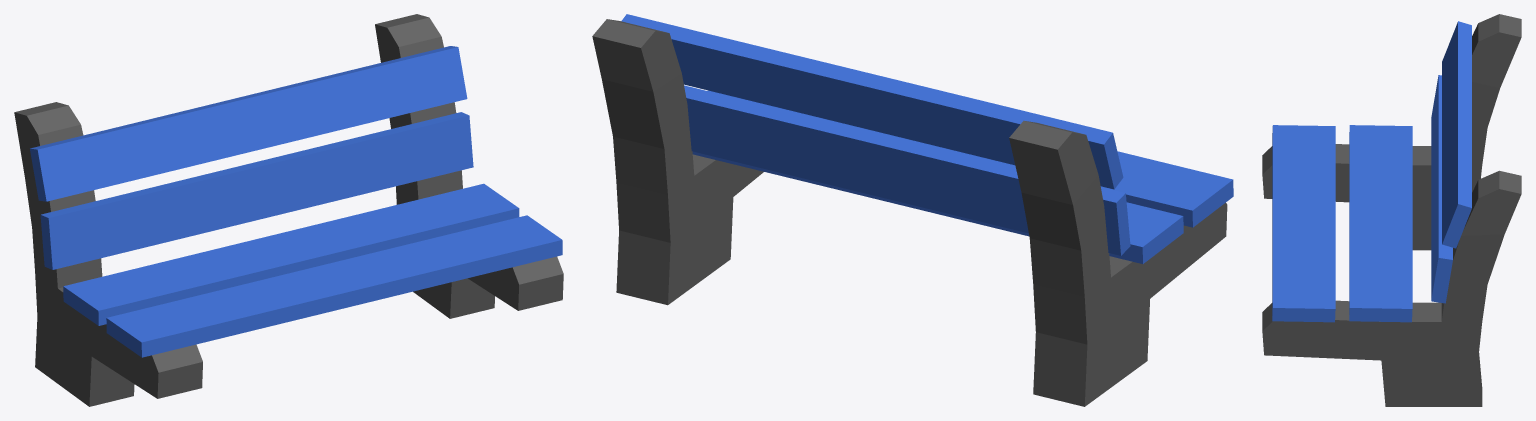
File: stone_bench.glb
3 views of the same model, side by side, from view 1: azimuth 30°, elevation 25°; view 2: azimuth 150°, elevation 25°; view 3: azimuth 270°, elevation 25° (orthographic). The views are drawn at different scales.
Visible parts, largest first — view 1: Cube.001; view 2: Cube.001; view 3: Cube.001.
Boxes of the visible parts, left/top/right/bottom form: Cube.001: left=14, top=14, right=563, bottom=406; Cube.001: left=592, top=14, right=1233, bottom=406; Cube.001: left=1262, top=14, right=1521, bottom=406.
Size of the model in its own units: 18.87 by 10.46 by 11.31.
